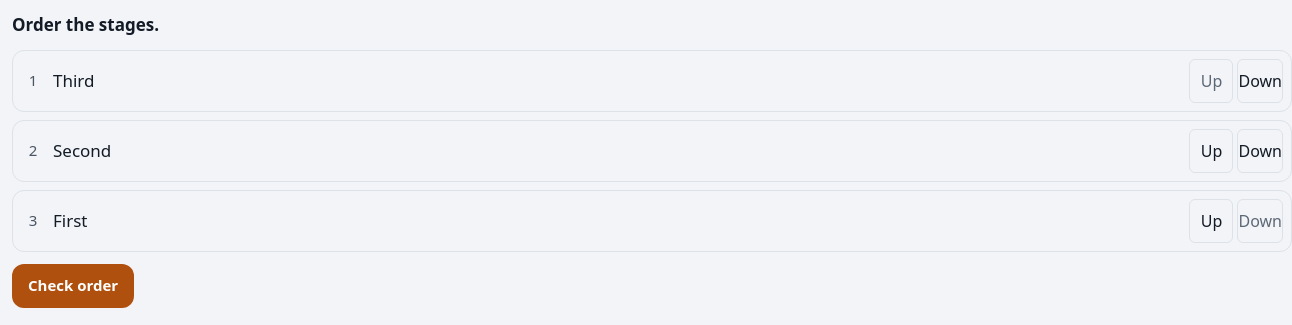
order checkpoint › never starts in the answer order, and is marked correct once the student fixes it
Click the button "Up" in the row of "Second".
click(1212, 150)  # box [1190,128,1234,172]
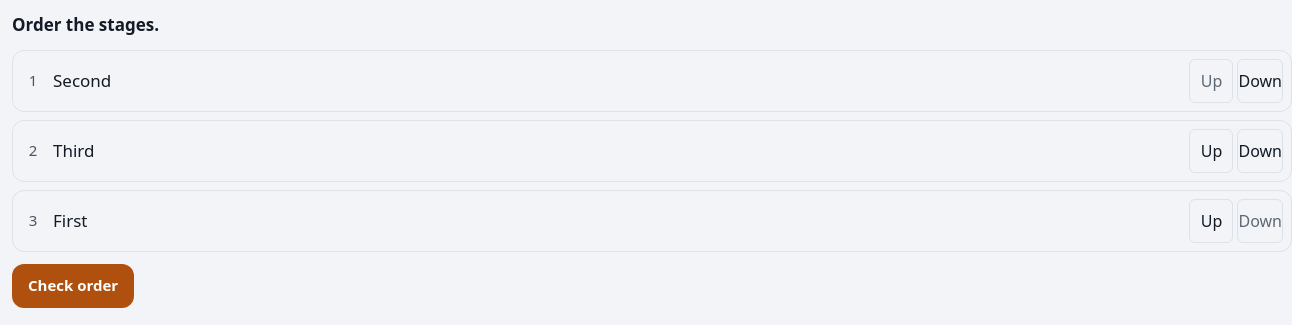
Click the button "Up" in the row of "First".
click(1212, 220)  # box [1190,198,1234,242]
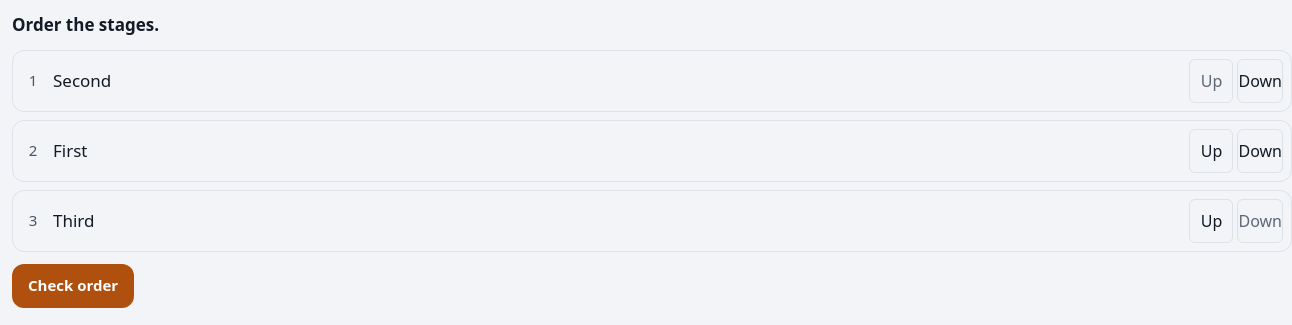
Click the button "Up" in the row of "First".
click(1212, 150)  # box [1190,128,1234,172]
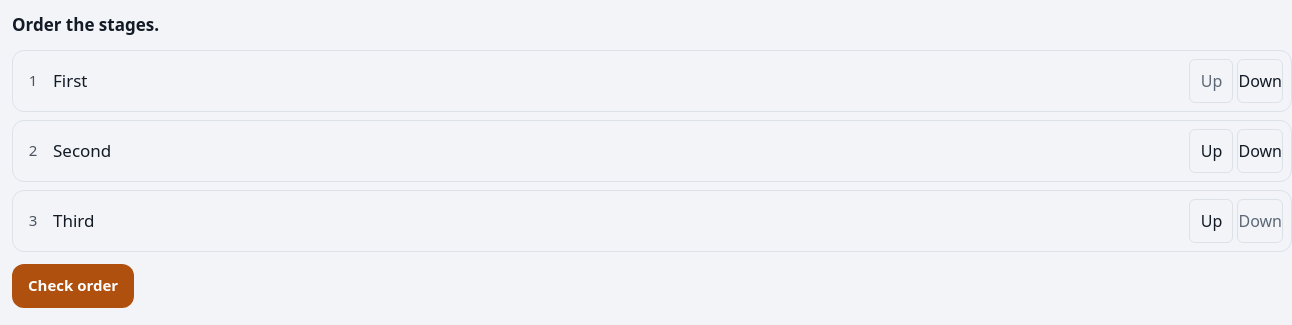
Click the button "Check order".
click(73, 286)  # box [12,264,134,308]
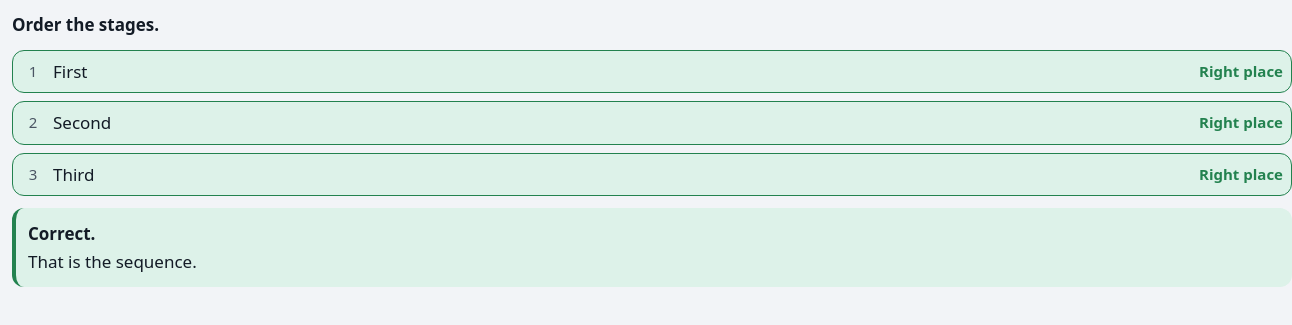
expect the message shows "Correct.": met, box [28,222,96,245]
